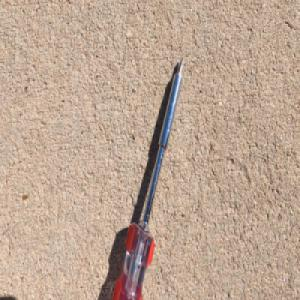Screwdriver: (108, 54, 185, 300)
